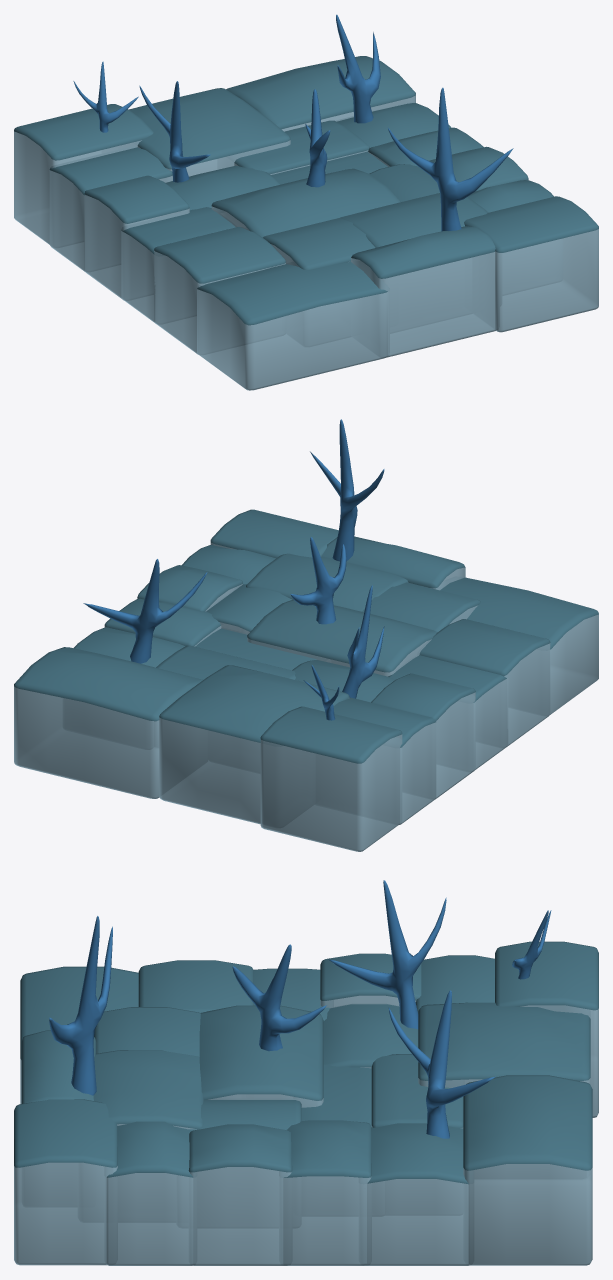
The model's file is Trikoma_1.fbx.
3 views of the same model, one above another, from view 1: azimuth 30°, elevation 25°; view 2: azimuth 150°, elevation 25°; view 3: azimuth 270°, elevation 25° (orthographic). The views are drawn at different scales.
Parts seen in each view (by area): view 1: Trikoma_1; view 2: Trikoma_1; view 3: Trikoma_1.
Boxes of the visible parts, x1=… form: Trikoma_1: x1=14, y1=14, x2=598, y2=390; Trikoma_1: x1=14, y1=419, x2=598, y2=851; Trikoma_1: x1=14, y1=880, x2=598, y2=1265.
Size of the model in its own units: 1069 by 659 by 1258.
